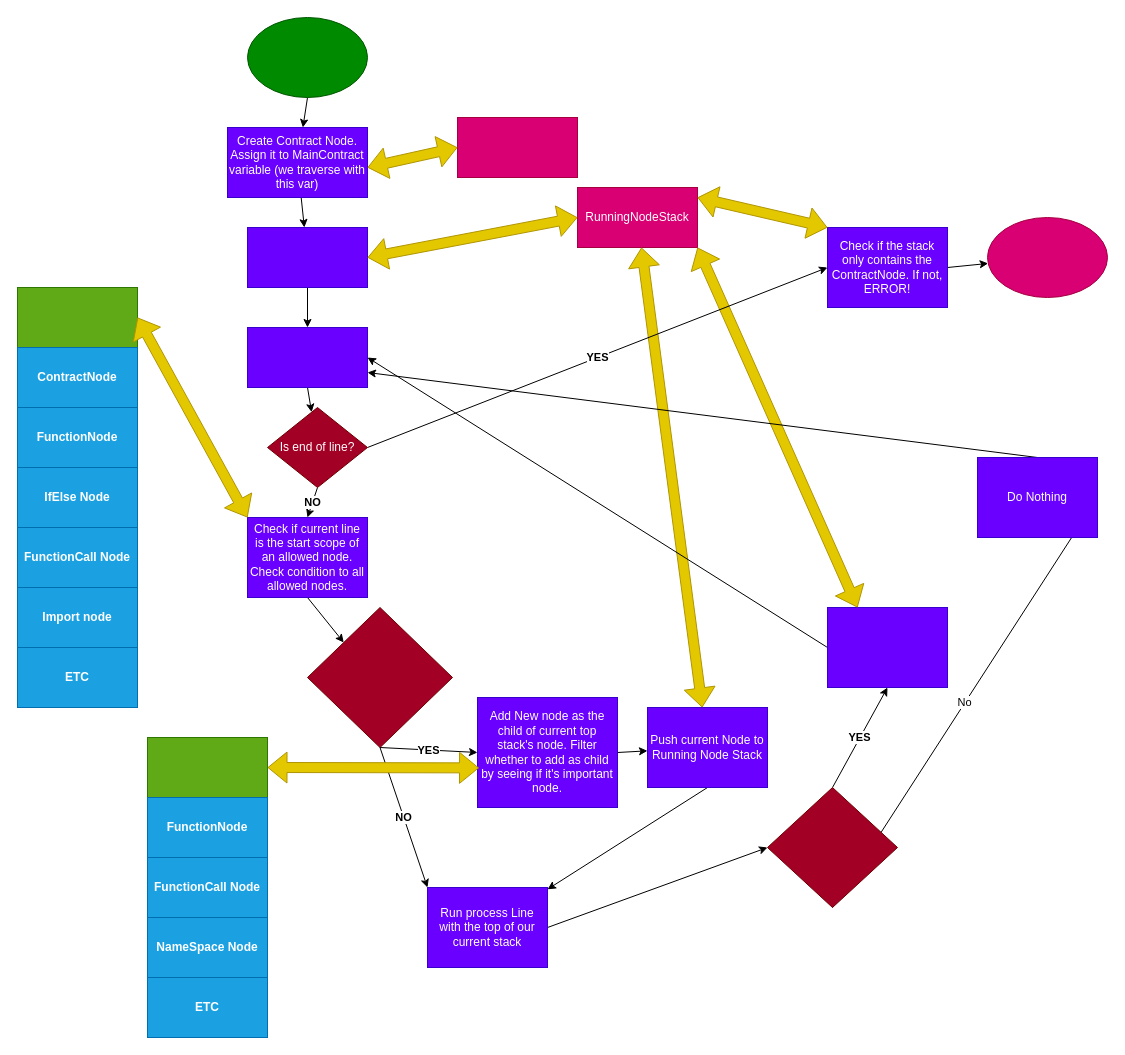
The diagram is 1125 pixels wide and 1055 high, and some of its shapes have lost their labels. Each missing label, with the centre of its shape:
"AllAllowedNode" belongs at (x=77, y=317).
"FINISH" belongs at (x=1047, y=257).
"ImportantNode (to be added as child)" belongs at (x=207, y=767).
"Is a new scope? (new Node)" belongs at (x=379, y=677).
"MainContract" belongs at (x=517, y=147).
"Pop the node from the stack" belongs at (x=887, y=647).
"Push it to our Stack data structure" belongs at (x=307, y=257).
"Read code per line" belongs at (x=307, y=357).
"Scope of the node Is Done?" belongs at (x=832, y=847).
"Start Here!" belongs at (x=307, y=57).
